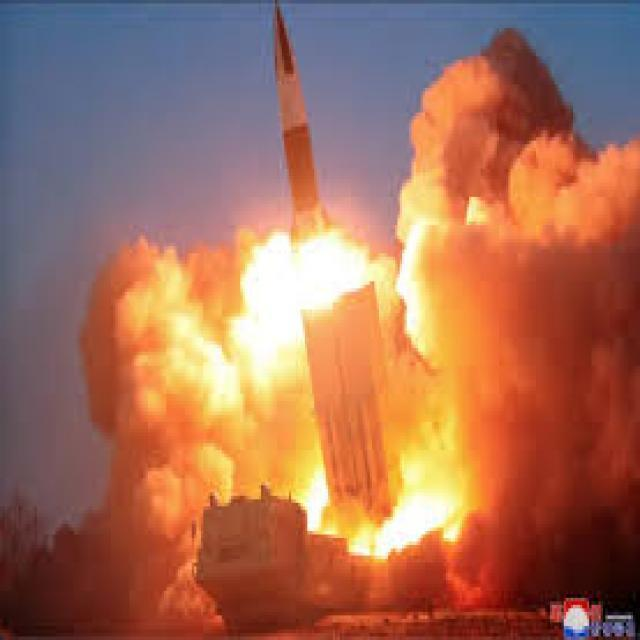missile: (265, 0, 336, 252)
